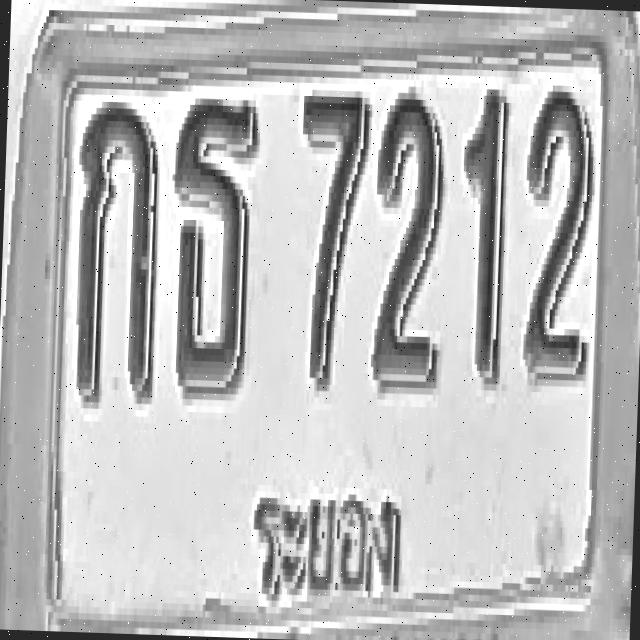1: (456, 82, 509, 384)
10GorGai: (72, 94, 164, 404)
2: (369, 82, 448, 391), (520, 84, 596, 381)
33ThorThong: (167, 88, 260, 398)
7: (292, 89, 368, 392)
Rayong: (242, 452, 414, 614)
